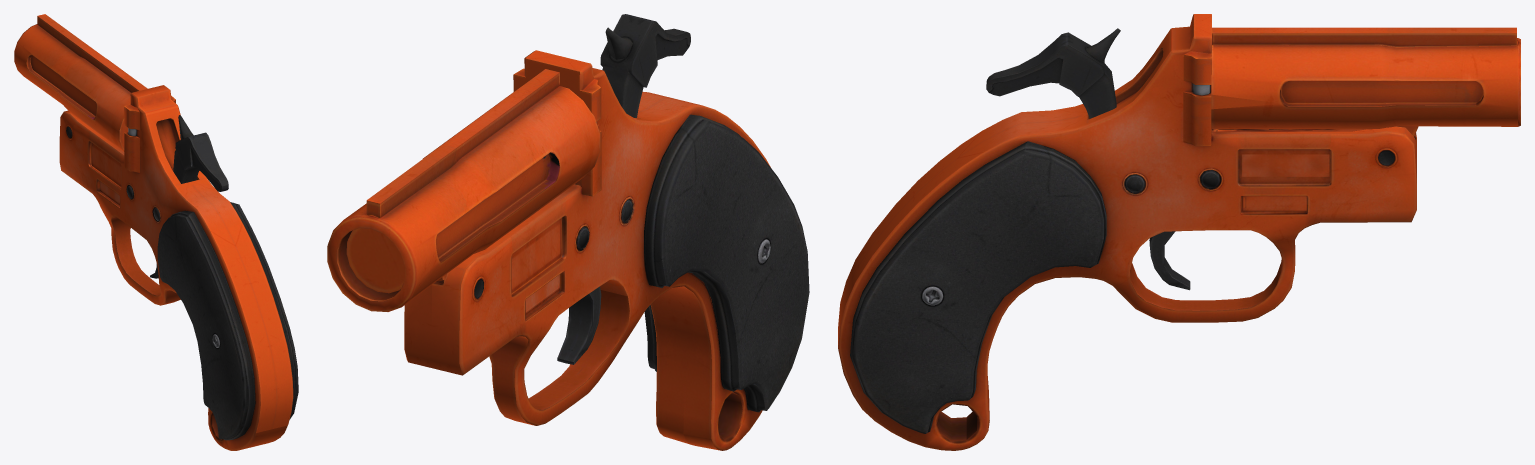
File: flare_gun_3d_model.glb
The picture shows the model from 3 angles, left to right: view 1: azimuth 30°, elevation 25°; view 2: azimuth 150°, elevation 25°; view 3: azimuth 270°, elevation 25°; orthographic projection. The views are drawn at different scales.
Parts seen in each view (by area): view 1: WP_Flaregun_1p_01 - Default_0; view 2: WP_Flaregun_1p_01 - Default_0; view 3: WP_Flaregun_1p_01 - Default_0.
Boxes of the visible parts, box(x1,y1,x2,y2) form: WP_Flaregun_1p_01 - Default_0: box(14, 14, 298, 450); WP_Flaregun_1p_01 - Default_0: box(327, 14, 809, 450); WP_Flaregun_1p_01 - Default_0: box(838, 14, 1520, 450).
Size of the model in its own units: 0.00313 by 0.0148 by 0.0221.
Materials: 1 (1 with a texture image).
